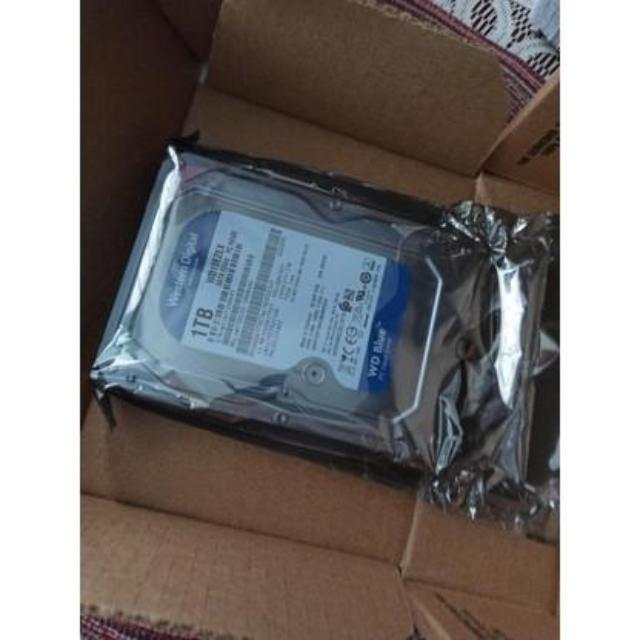DISK: (109, 155, 440, 453)
